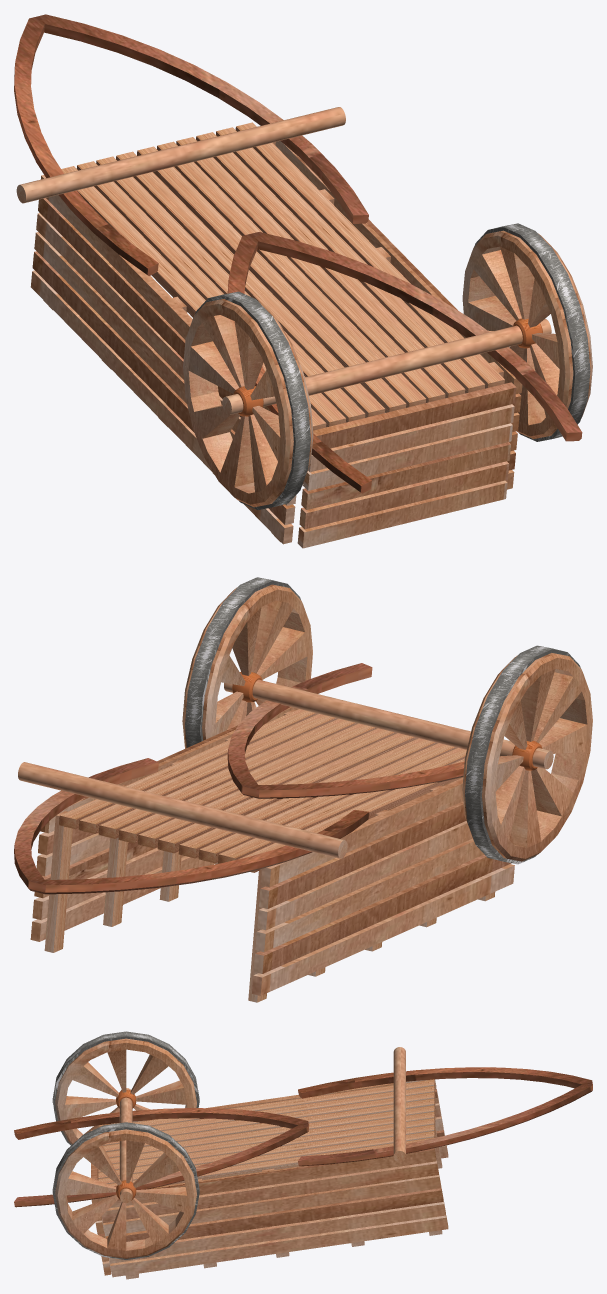
The model's file is Cart_Damaged.fbx.
The picture shows the model from 3 angles, top to bottom: view 1: azimuth 30°, elevation 25°; view 2: azimuth 150°, elevation 25°; view 3: azimuth 270°, elevation 25°; orthographic projection. The views are drawn at different scales.
Visible parts, largest first — view 1: pCube20; view 2: pCube20; view 3: pCube20.
Boxes of the visible parts, x1,y1,x2,y2 form: pCube20: [14, 14, 592, 548]; pCube20: [14, 577, 592, 1002]; pCube20: [14, 1031, 592, 1279].
Size of the model in its own units: 3.46 by 2.58 by 8.16.
4 materials, 4 textured.
